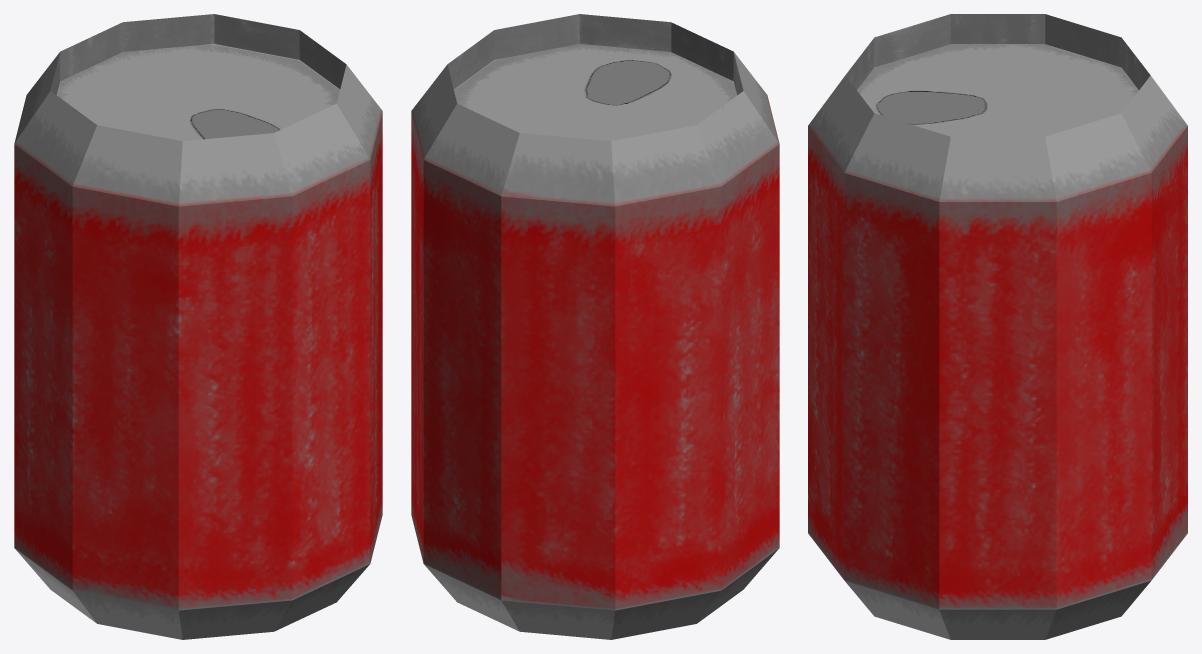
The model's file is Can.fbx.
The picture shows the model from 3 angles, left to right: view 1: azimuth 30°, elevation 25°; view 2: azimuth 150°, elevation 25°; view 3: azimuth 270°, elevation 25°; orthographic projection.
Parts seen in each view (by area): view 1: pCylinder1; view 2: pCylinder1; view 3: pCylinder1.
Part boxes in pixels (x1,y1,x2,y2): pCylinder1: (14,14,382,639); pCylinder1: (411,14,779,639); pCylinder1: (808,14,1187,639).
Bounding box in the file's own units: 1.3 × 2 × 1.37.
1 material, 1 textured.
